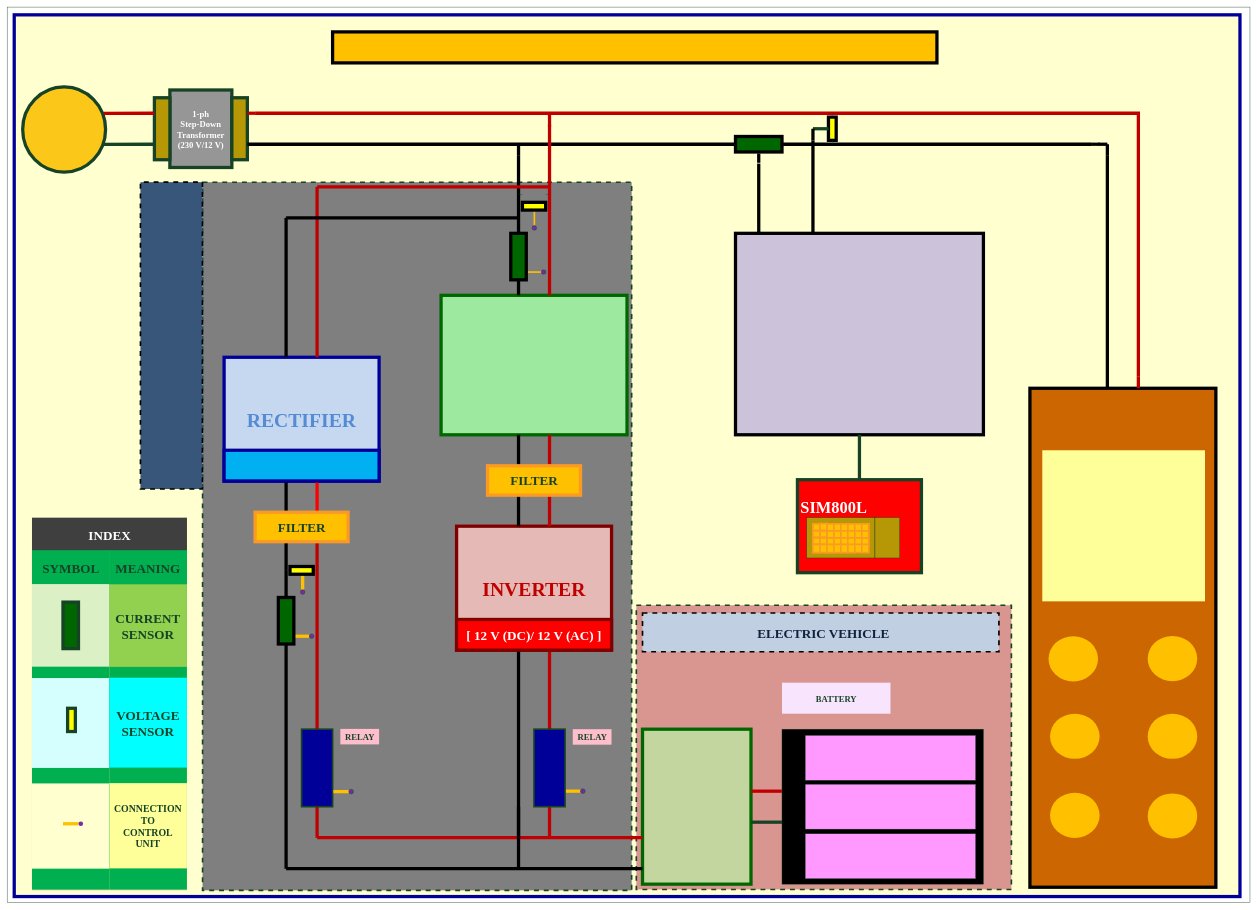
This 1257x910 diagram has some shape labels left out. Here are the shapes that lost their labels. From the top down, the centre of each, then its label:
At pixel 634 47: "VEHICLE TO GRID INTEGRATION".
At pixel 64 129: "230 V (AC) Supply".
At pixel 171 335: "CHARGING STATION".
At pixel 859 333: "CONTROL UNIT".
At pixel 533 364: "SYNCHRONIZATION CIRCUIT".
At pixel 301 465: "[ 12 V (AC)/ 12 V (DC) ]".
At pixel 1123 525: "LAMP LOAD".
At pixel 696 806: "BATTERY MANAGEMENT SYSTEM [BMS]".
